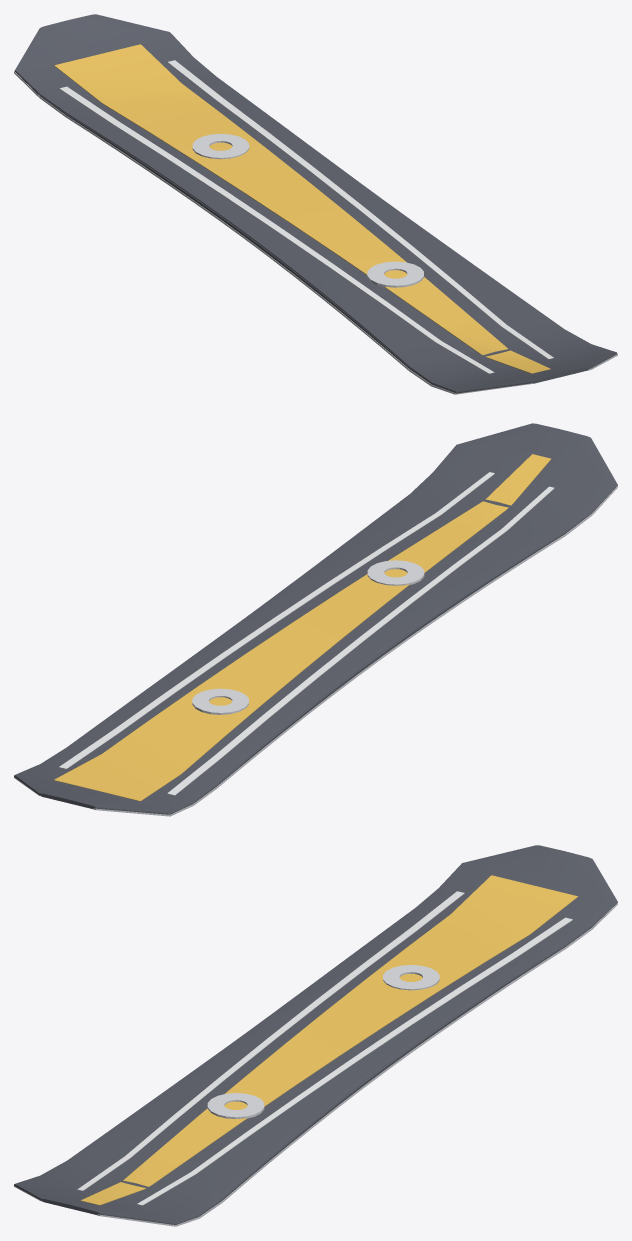
File: snowboard-gear-and-freestyle-riders-all-mountain-direc-0d85acc5__22927.glb
3 renders of one model, top to bottom at view 1: azimuth 30°, elevation 25°; view 2: azimuth 150°, elevation 25°; view 3: azimuth 330°, elevation 25°, orthographic.
Visible parts, largest first — view 1: all-mountain-directional-board; view 2: all-mountain-directional-board; view 3: all-mountain-directional-board.
Part boxes in pixels (x1,y1,x2,y2): all-mountain-directional-board: [14, 14, 617, 394]; all-mountain-directional-board: [14, 423, 617, 816]; all-mountain-directional-board: [14, 845, 617, 1226].
Bounding box in the file's own units: 0.3001 × 0.0585 × 1.58.
